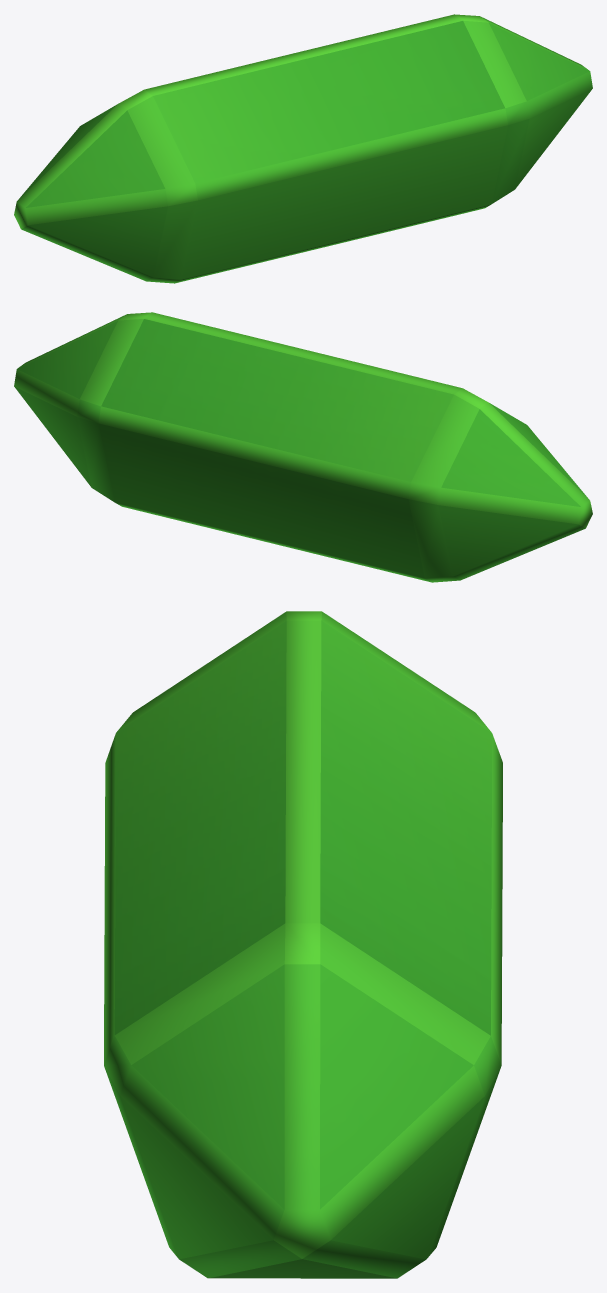
File: christal_emerald_1.fbx
3 views of the same model, one above another, from view 1: azimuth 30°, elevation 25°; view 2: azimuth 150°, elevation 25°; view 3: azimuth 270°, elevation 25° (orthographic). The views are drawn at different scales.
Visible parts, largest first — view 1: christal_emerald_1; view 2: christal_emerald_1; view 3: christal_emerald_1.
Boxes of the visible parts, left/top/right/bottom form: christal_emerald_1: left=14, top=14, right=592, bottom=283; christal_emerald_1: left=14, top=312, right=592, bottom=582; christal_emerald_1: left=104, top=611, right=502, bottom=1278.
Bounding box in the file's own units: 110 × 31.95 × 33.68.
1 material, 1 textured.
